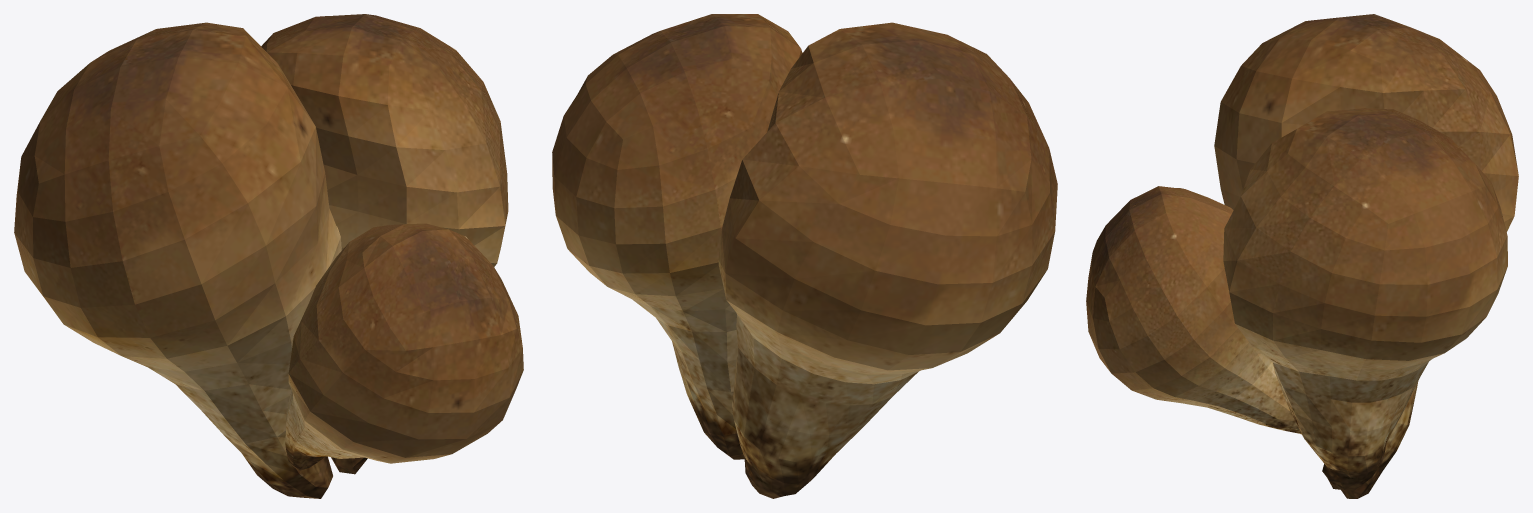
The model's file is P_Jituigu_03.obj.
3 views of the same model, side by side, from view 1: azimuth 30°, elevation 25°; view 2: azimuth 150°, elevation 25°; view 3: azimuth 270°, elevation 25° (orthographic). The views are drawn at different scales.
Bounding box in the file's own units: 0.3637 × 0.3694 × 0.3429.
Materials: 1 (1 with a texture image).
